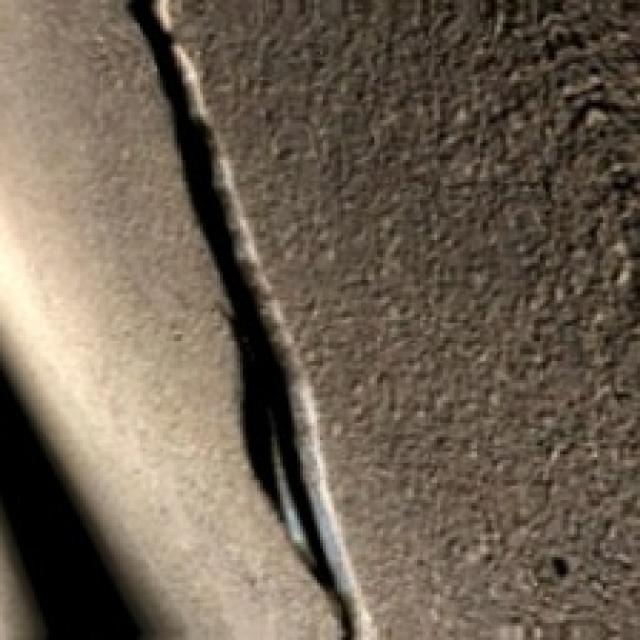reticulated python: (129, 0, 374, 637)
